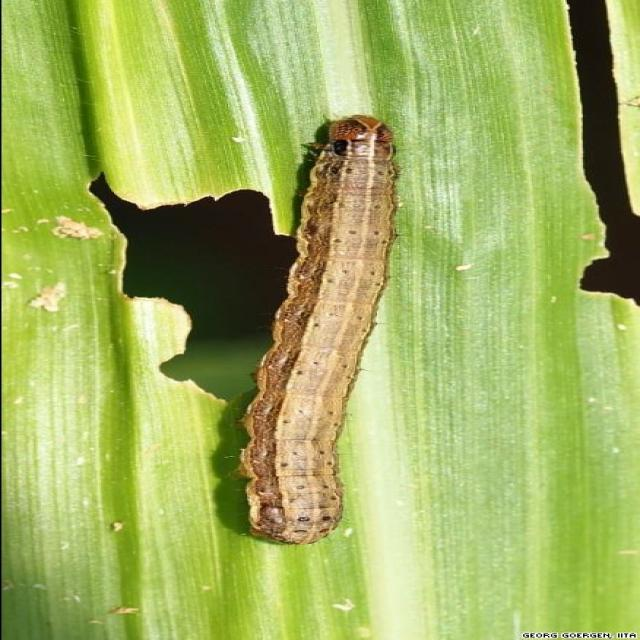army worm: (236, 114, 404, 549)
